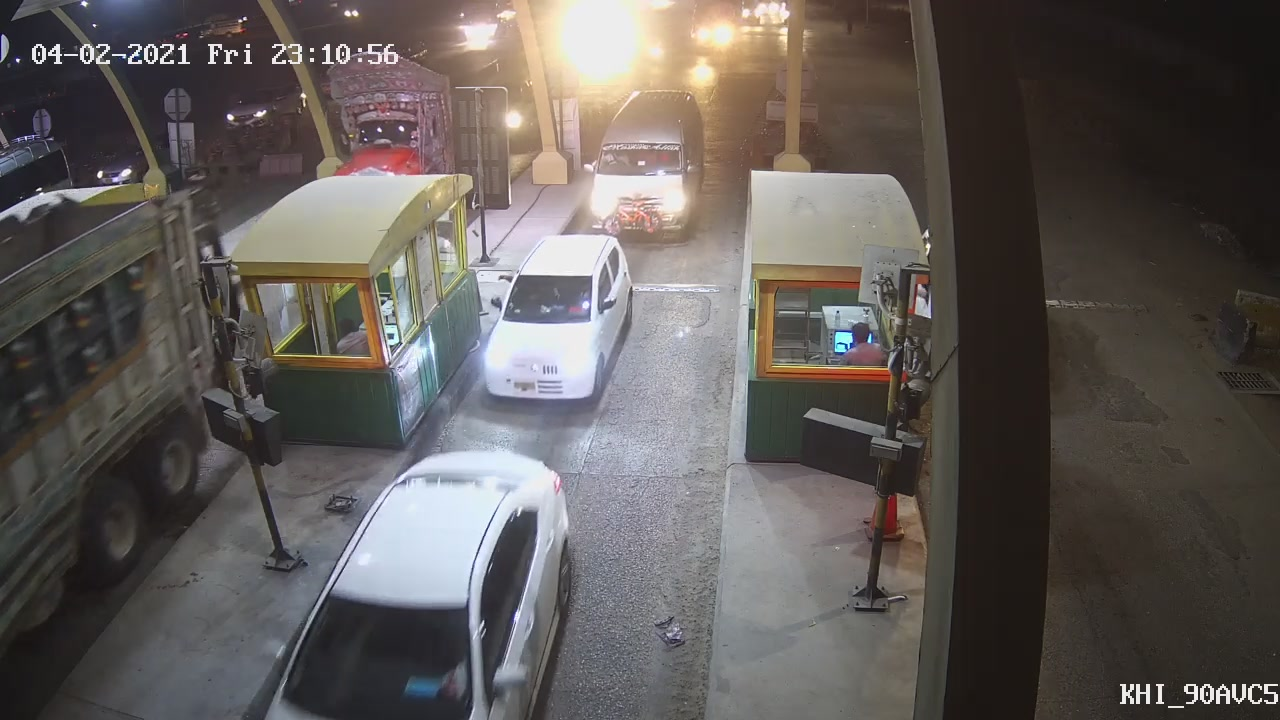F1: (480, 230, 639, 407)
